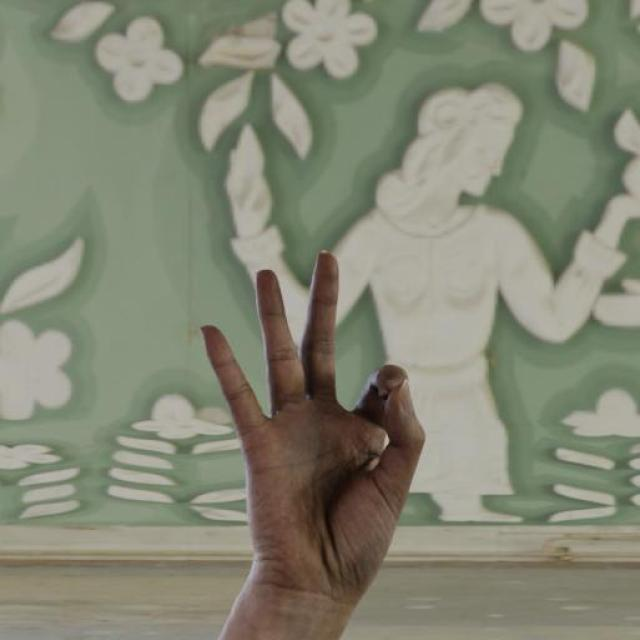F: (194, 244, 430, 597)
